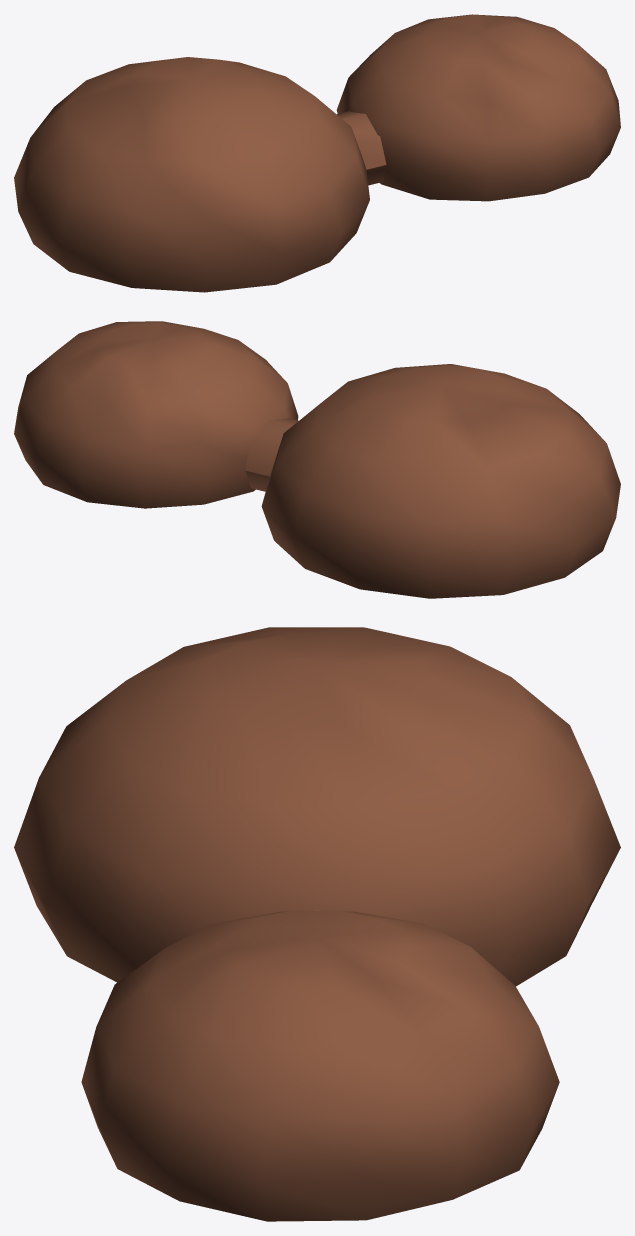
File: fogtail_carp_liver.glb
3 renders of one model, top to bottom at view 1: azimuth 30°, elevation 25°; view 2: azimuth 150°, elevation 25°; view 3: azimuth 270°, elevation 25°, orthographic. The views are drawn at different scales.
Parts seen in each view (by area): view 1: fogtail_carp_liver; view 2: fogtail_carp_liver; view 3: fogtail_carp_liver.
Part boxes in pixels (x1=…): fogtail_carp_liver: x1=14, y1=14, x2=620, y2=292; fogtail_carp_liver: x1=14, y1=321, x2=620, y2=598; fogtail_carp_liver: x1=14, y1=627, x2=620, y2=1221.
Bounding box in the file's own units: 0.045 × 0.012 × 0.025.
